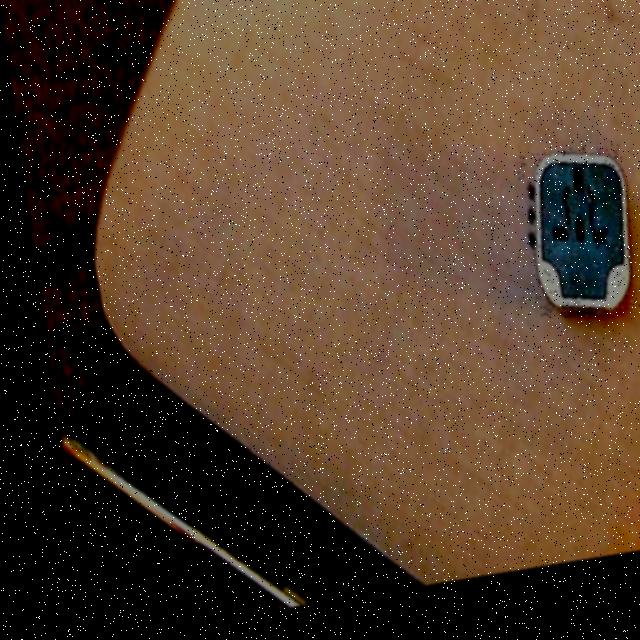adapter: (509, 161, 631, 340)
